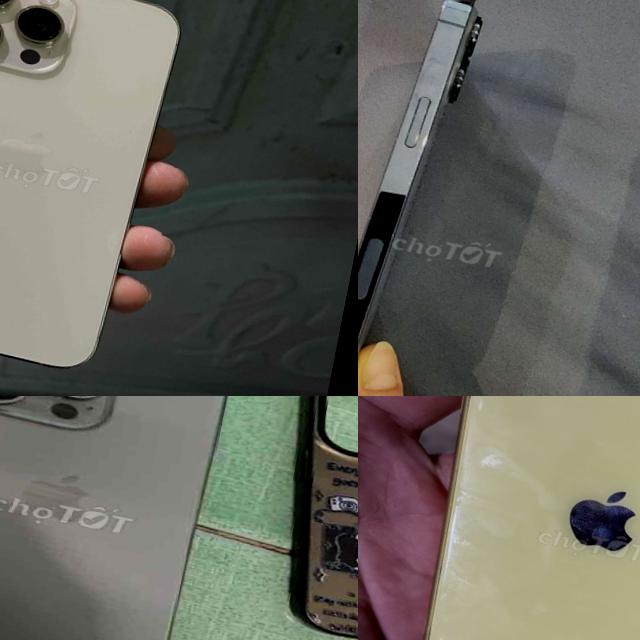gen_11: (387, 396, 640, 640)
gen_12_13: (358, 0, 493, 396)
gen_14: (0, 0, 188, 396)
gen_15: (0, 396, 260, 640)
